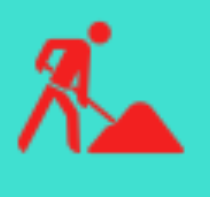CONSTRUCTION: (4, 3, 194, 162)
